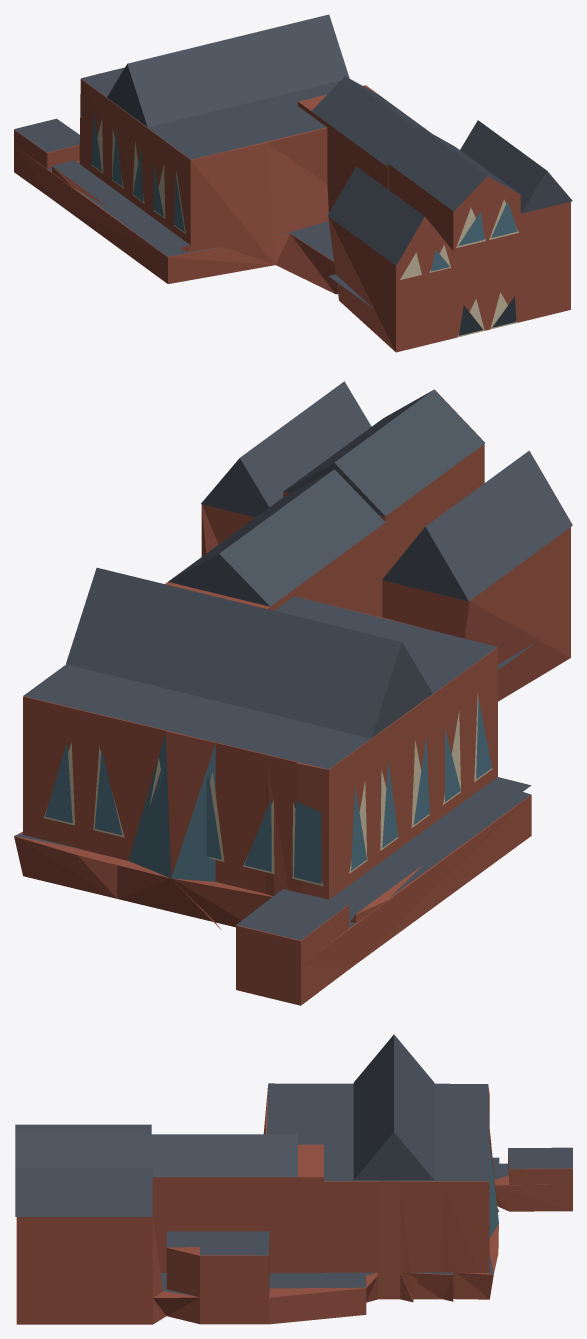
Rendered from rode-hoed.lod2.glb.
3 views of the same model, one above another, from view 1: azimuth 30°, elevation 25°; view 2: azimuth 150°, elevation 25°; view 3: azimuth 270°, elevation 25° (orthographic). The views are drawn at different scales.
Parts seen in each view (by area): view 1: lod2; view 2: lod2; view 3: lod2.
Boxes of the visible parts, box(x1,y1,x2,y2) form: lod2: box(14, 14, 572, 352); lod2: box(14, 381, 572, 1005); lod2: box(15, 1034, 572, 1324).
Bounding box in the file's own units: 28.72 × 16.66 × 50.4.
